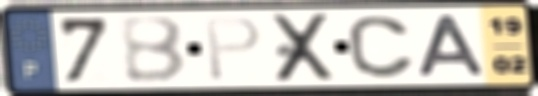7: (57, 16, 113, 86)
A: (414, 13, 489, 79)
B: (116, 14, 190, 85)
C: (344, 13, 419, 80)
P: (202, 14, 264, 83)
X: (269, 11, 340, 85)
